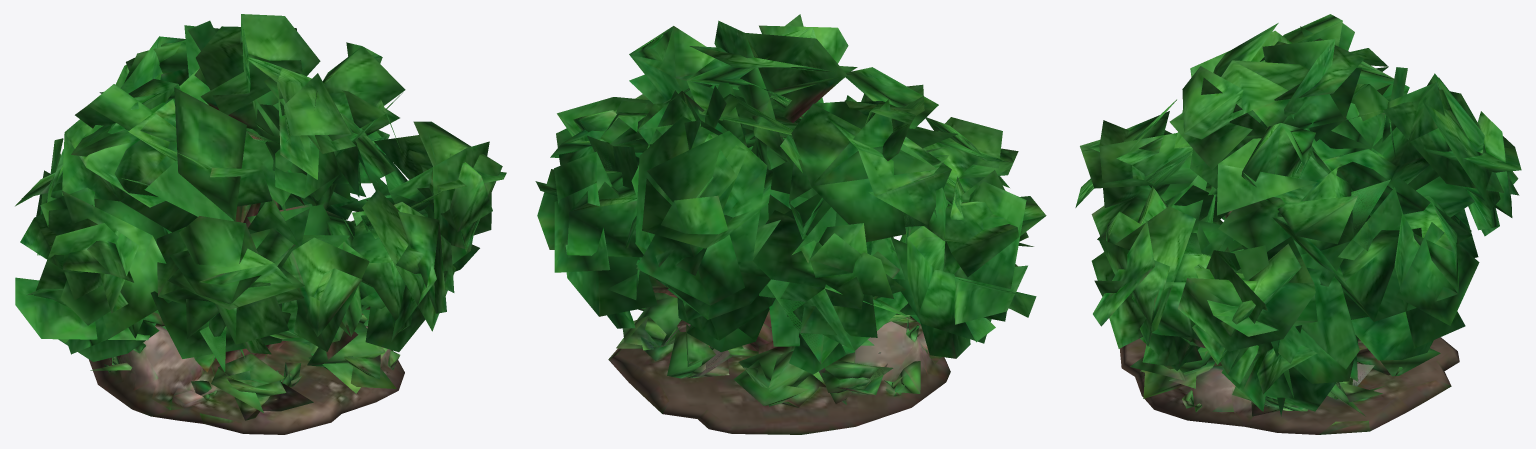
The model's file is bush2.glb.
3 views of the same model, side by side, from view 1: azimuth 30°, elevation 25°; view 2: azimuth 150°, elevation 25°; view 3: azimuth 270°, elevation 25° (orthographic). The views are drawn at different scales.
Parts seen in each view (by area): view 1: bush2; view 2: bush2; view 3: bush2.
Part boxes in pixels (x1,y1,x2,y2): bush2: (15, 14, 506, 434); bush2: (535, 14, 1046, 434); bush2: (1075, 14, 1521, 434).
Size of the model in its own units: 0.8344 by 0.5488 by 0.6595.
1 material, 1 textured.
